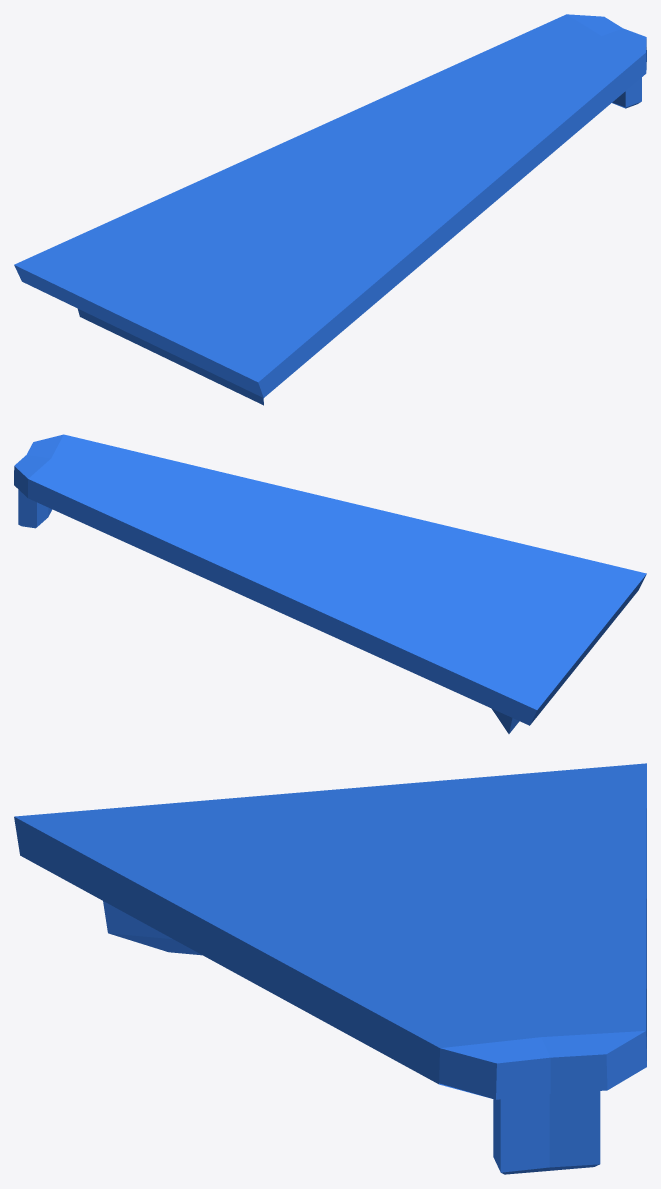
The model's file is Baluminaria-Seg07.fbx.
The picture shows the model from 3 angles, top to bottom: view 1: azimuth 30°, elevation 25°; view 2: azimuth 150°, elevation 25°; view 3: azimuth 270°, elevation 25°; orthographic projection. The views are drawn at different scales.
Parts seen in each view (by area): view 1: Seg07; view 2: Seg07; view 3: Seg07.
Boxes of the visible parts, x1,y1,x2,y2 form: Seg07: [14, 14, 646, 405]; Seg07: [14, 434, 646, 733]; Seg07: [14, 763, 646, 1174].
Bounding box in the file's own units: 2403 × 681 × 1282.
